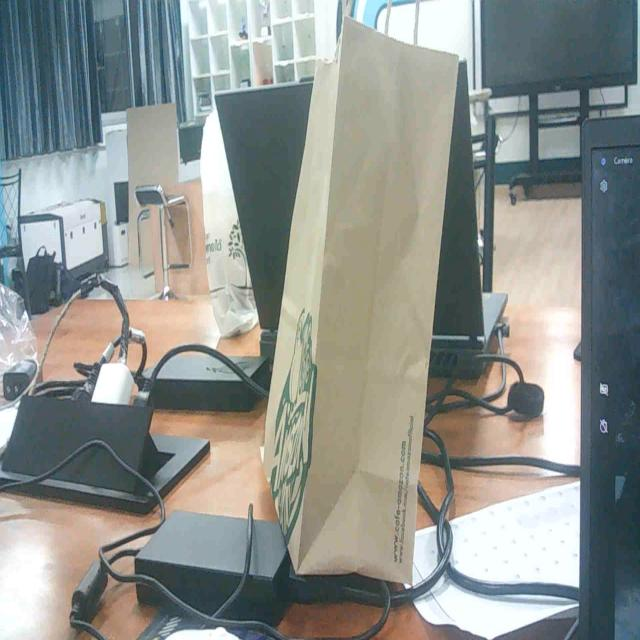bag: (260, 17, 486, 619)
